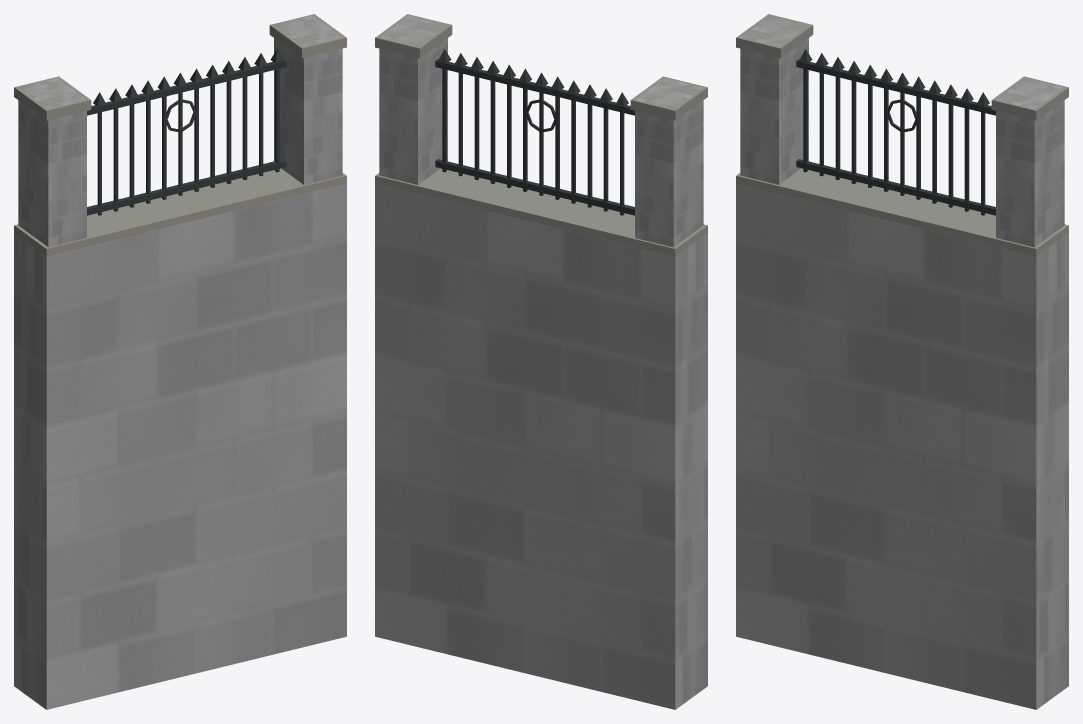
File: SM_QD_Church_Fence_172.fbx
The picture shows the model from 3 angles, left to right: view 1: azimuth 30°, elevation 25°; view 2: azimuth 150°, elevation 25°; view 3: azimuth 330°, elevation 25°; orthographic projection.
Visible parts, largest first — view 1: SM_QD_Church_Fence_172; view 2: SM_QD_Church_Fence_172; view 3: SM_QD_Church_Fence_172.
Boxes of the visible parts, x1,y1,x2,y2 form: SM_QD_Church_Fence_172: [14, 14, 346, 709]; SM_QD_Church_Fence_172: [375, 14, 707, 709]; SM_QD_Church_Fence_172: [736, 14, 1068, 709].
Size of the model in its own units: 2.89 by 0.5391 by 5.5.
